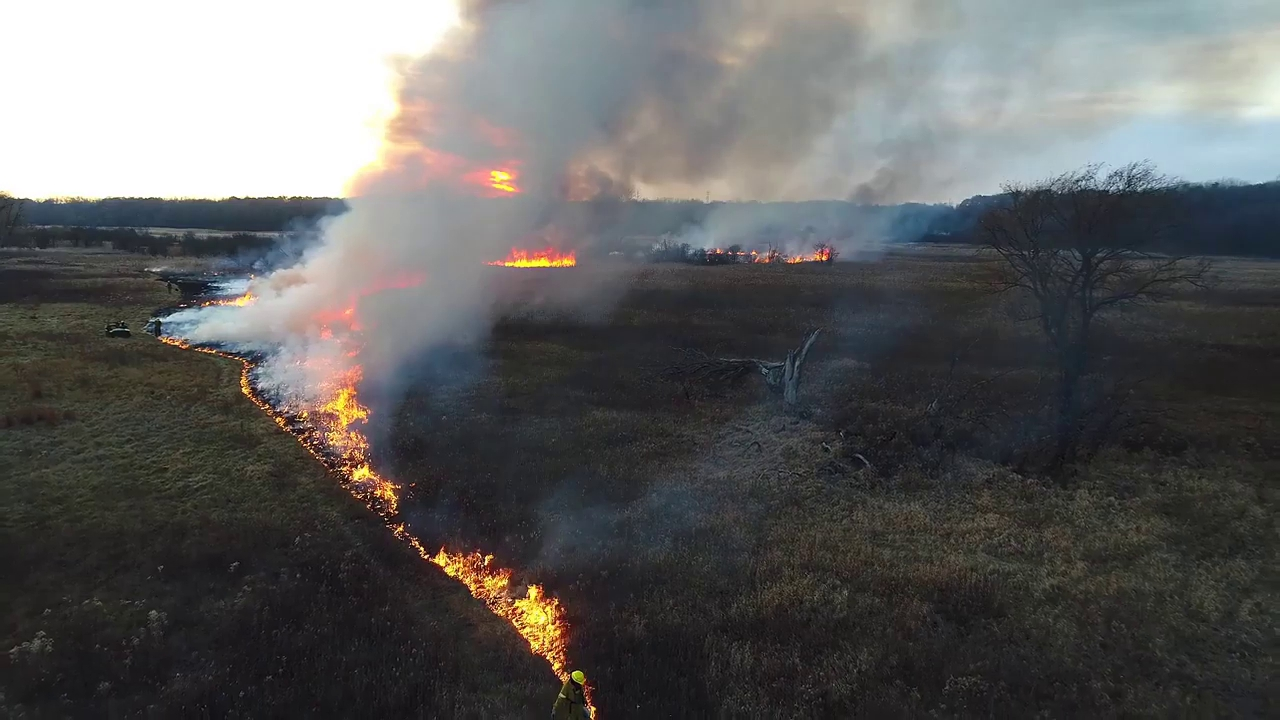forest_fire: (161, 336, 567, 679), (487, 247, 575, 266), (786, 250, 833, 262), (213, 292, 251, 304), (354, 325, 357, 326)
